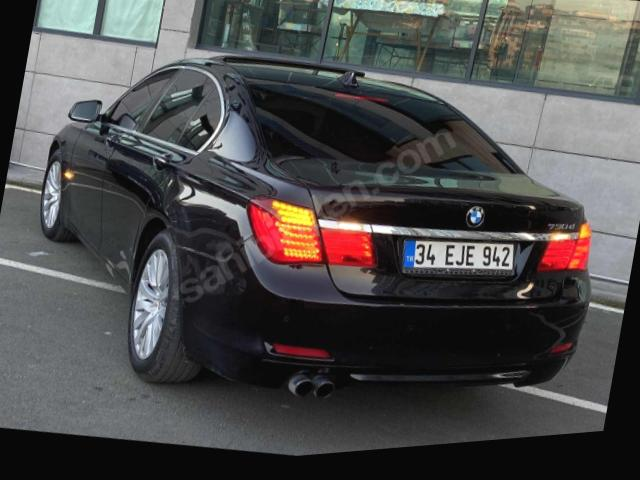plaka: (402, 239, 519, 275)
